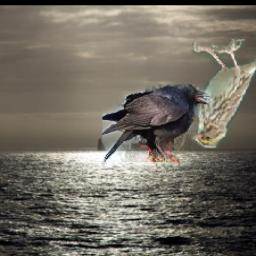Crow: (102, 84, 212, 162)
Sparrow: (191, 39, 256, 149)
